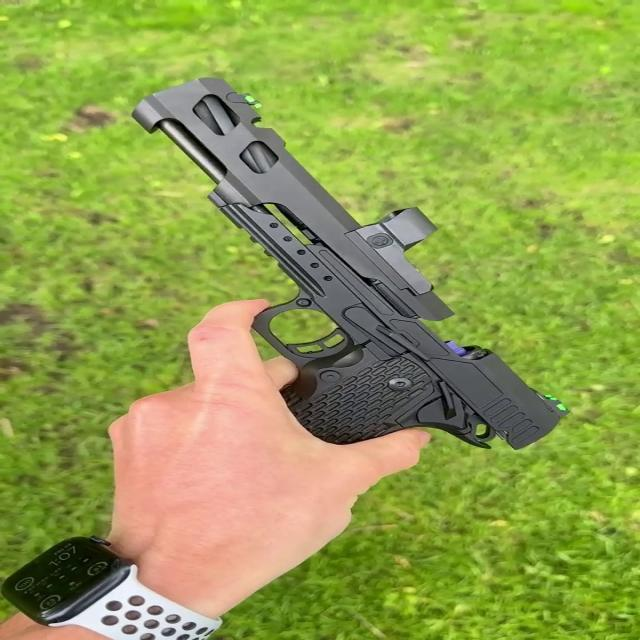Handgun: (98, 64, 576, 502)
